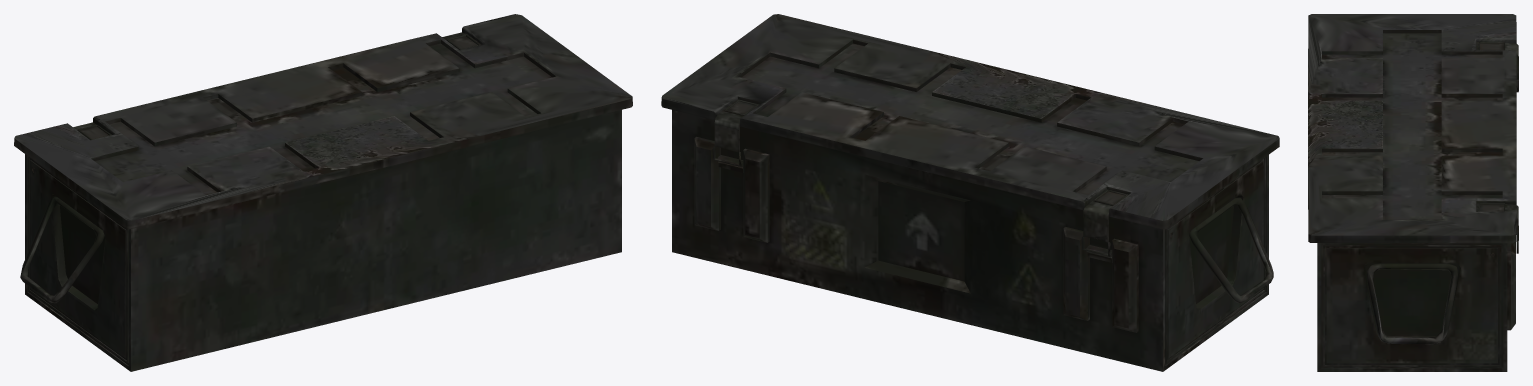
Rendered from mcrate.glb.
3 renders of one model, left to right at view 1: azimuth 30°, elevation 25°; view 2: azimuth 150°, elevation 25°; view 3: azimuth 270°, elevation 25°, orthographic. The views are drawn at different scales.
Visible parts, largest first — view 1: Cube.004_Weapons Crate_0; view 2: Cube.004_Weapons Crate_0; view 3: Cube.004_Weapons Crate_0.
Boxes of the visible parts, bbox=[...] form: Cube.004_Weapons Crate_0: bbox=[14, 14, 632, 371]; Cube.004_Weapons Crate_0: bbox=[661, 14, 1279, 371]; Cube.004_Weapons Crate_0: bbox=[1308, 14, 1518, 371].
Size of the model in its own units: 0.8995 by 0.2439 by 0.3336.
Materials: 1 (1 with a texture image).
